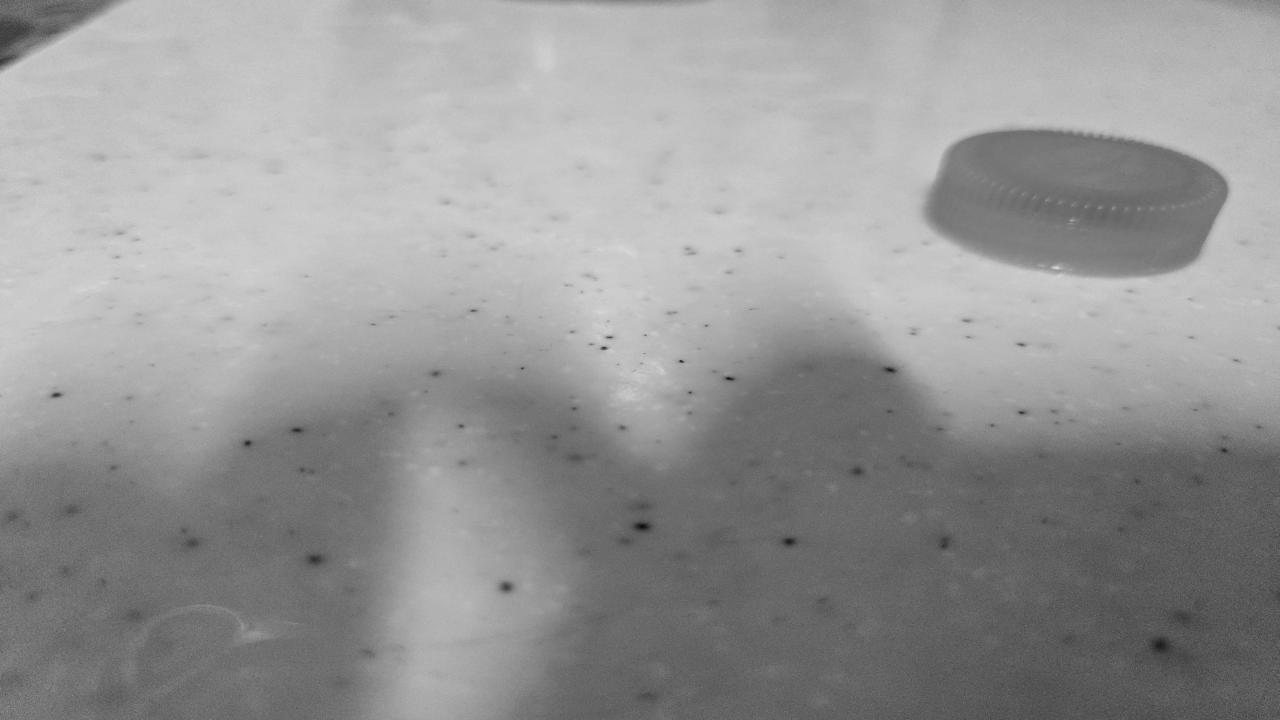bottle_cap: (923, 126, 1233, 281)
